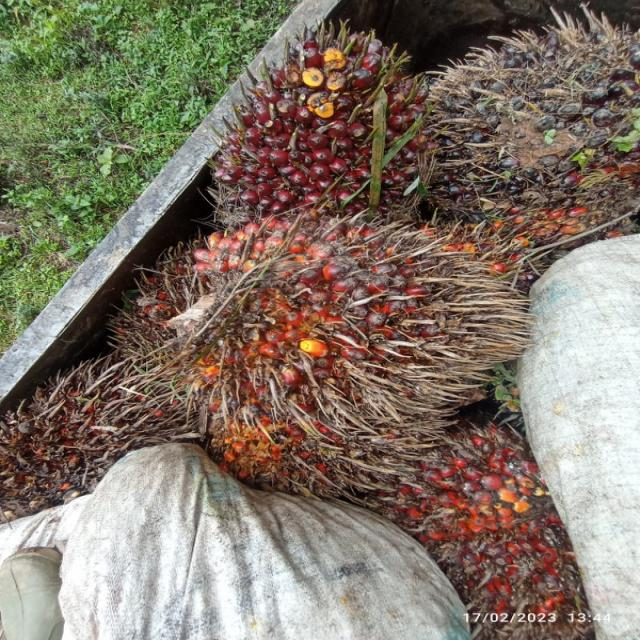fraksi 00: (417, 0, 640, 229)
fraksi 1: (183, 15, 454, 226)
fraksi 3: (74, 190, 554, 440)
